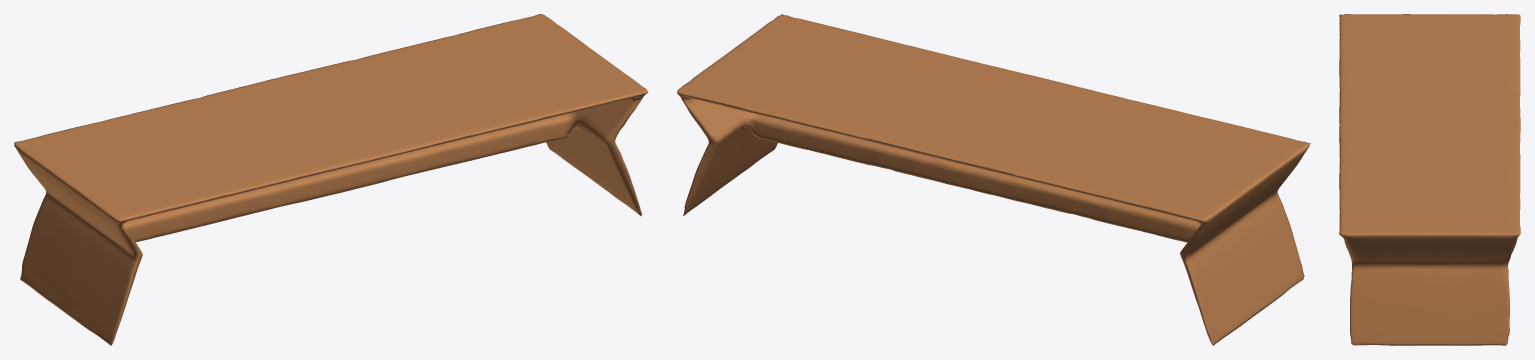
File: furniture_2.glb
3 renders of one model, left to right at view 1: azimuth 30°, elevation 25°; view 2: azimuth 150°, elevation 25°; view 3: azimuth 270°, elevation 25°, orthographic. The views are drawn at different scales.
Visible parts, largest first — view 1: Banc; view 2: Banc; view 3: Banc.
Boxes of the visible parts, x1=… form: Banc: x1=14, y1=14, x2=648, y2=345; Banc: x1=677, y1=14, x2=1310, y2=345; Banc: x1=1339, y1=14, x2=1520, y2=345.
Bounding box in the file's own units: 3 × 0.7107 × 1.04.
